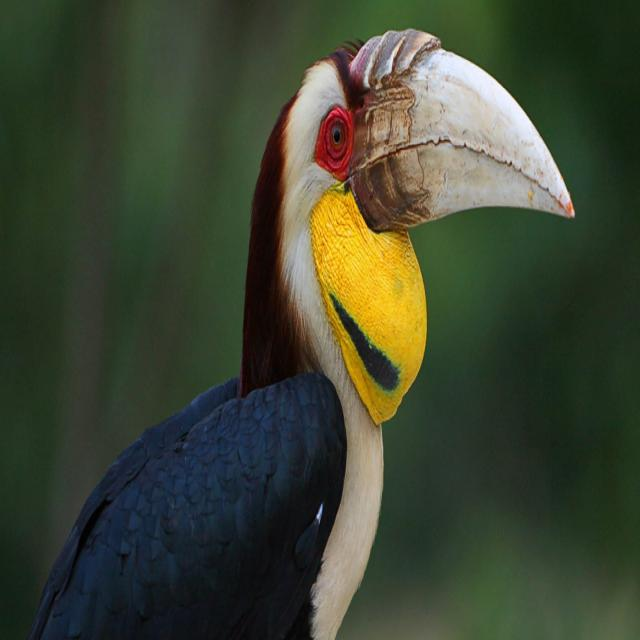Hornbill: (56, 29, 575, 640)
